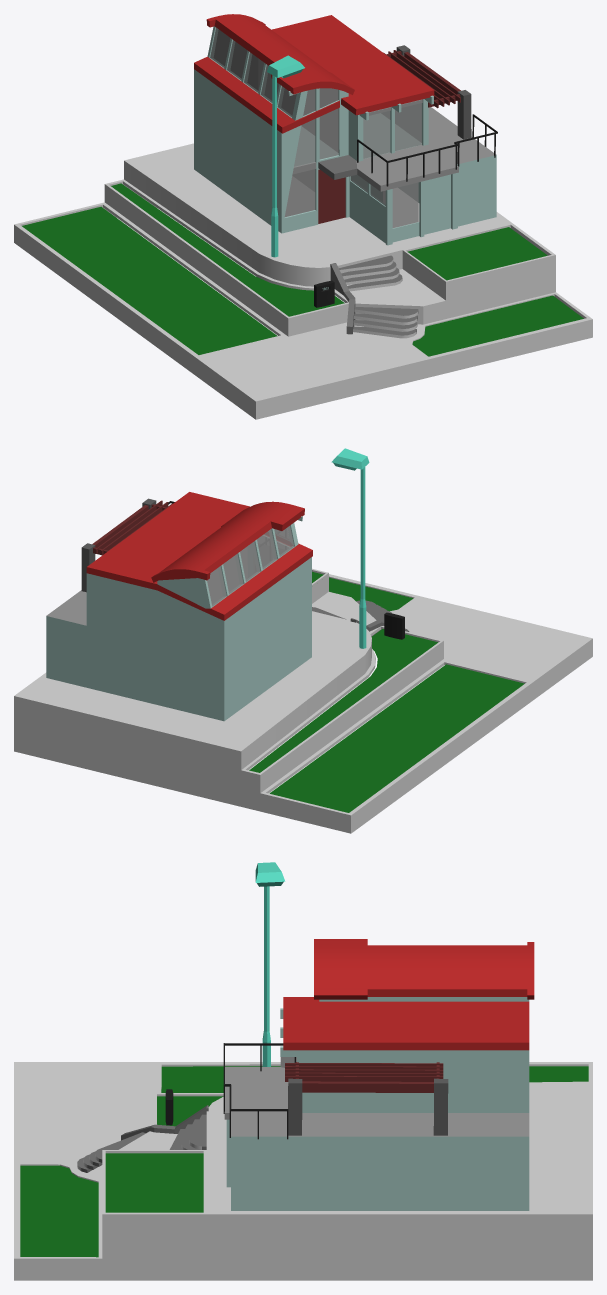
File: rumahsample.obj
3 renders of one model, top to bottom at view 1: azimuth 30°, elevation 25°; view 2: azimuth 150°, elevation 25°; view 3: azimuth 270°, elevation 25°, orthographic. The views are drawn at different scales.
Visible parts, largest first — view 1: Arch01_03_404, Object01, Patch02, Object07, Arch01_03_399, Arch01_03_400, Arch01_03_405, street_lamp, Arch01_03_401, Object06, Arch01_03_402; view 2: Arch01_03_404, Patch02, Object01, Arch01_03_399, Object07, Arch01_03_400, street_lamp, Box01; view 3: Arch01_03_404, Patch02, Arch01_03_399, Object07, Object01, street_lamp.
Part boxes in pixels (x1,y1,x2,y2): Arch01_03_404: [14, 143, 592, 419]; Object01: [22, 183, 583, 356]; Patch02: [194, 26, 496, 233]; Object07: [214, 15, 496, 245]; Arch01_03_399: [194, 14, 497, 191]; Arch01_03_400: [210, 27, 421, 227]; Arch01_03_405: [349, 174, 450, 242]; street_lamp: [267, 55, 304, 257]; Arch01_03_401: [318, 169, 345, 223]; Object06: [294, 127, 338, 166]; Arch01_03_402: [357, 115, 495, 186]; Arch01_03_404: [14, 568, 592, 833]; Patch02: [46, 523, 311, 721]; Object01: [249, 571, 524, 812]; Arch01_03_399: [86, 500, 312, 620]; Object07: [46, 492, 249, 625]; Arch01_03_400: [207, 526, 294, 606]; street_lamp: [331, 448, 369, 648]; Box01: [384, 612, 404, 639]; Arch01_03_404: [14, 1062, 592, 1280]; Patch02: [226, 997, 529, 1210]; Arch01_03_399: [223, 939, 534, 1119]; Object07: [231, 997, 529, 1136]; Object01: [20, 1066, 588, 1257]; street_lamp: [255, 862, 285, 1066].
Size of what is drawn, in the model's own units: 251 by 176 by 312.
